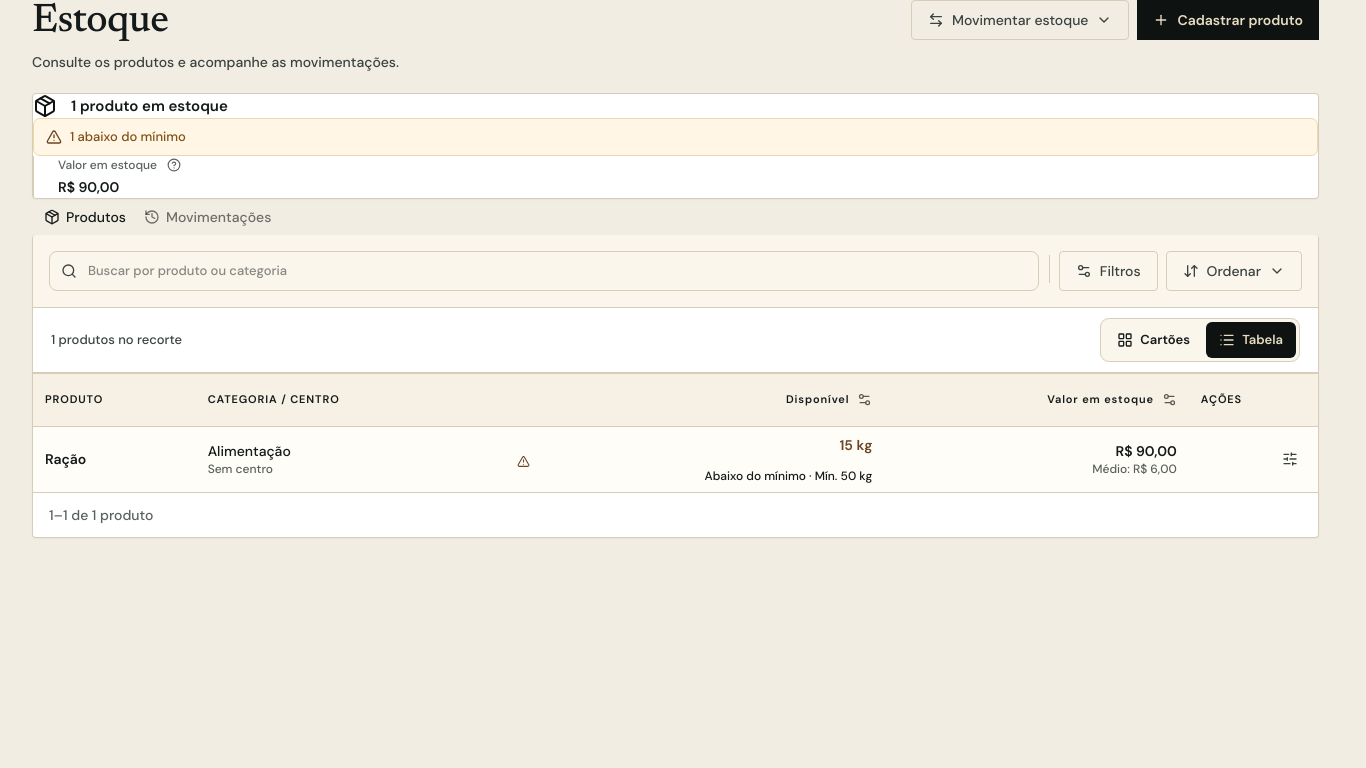
Test: EstoqueContent — saldos e custo médio › o botão do filtro 'Só abaixo do mínimo' leva o mesmo ícone da linha
Expected: the table named "Saldos de estoque" is shown, [33, 374, 1318, 492]
Step 1. Click the button "Filtros" → (1108, 270), box [1059, 250, 1158, 290]
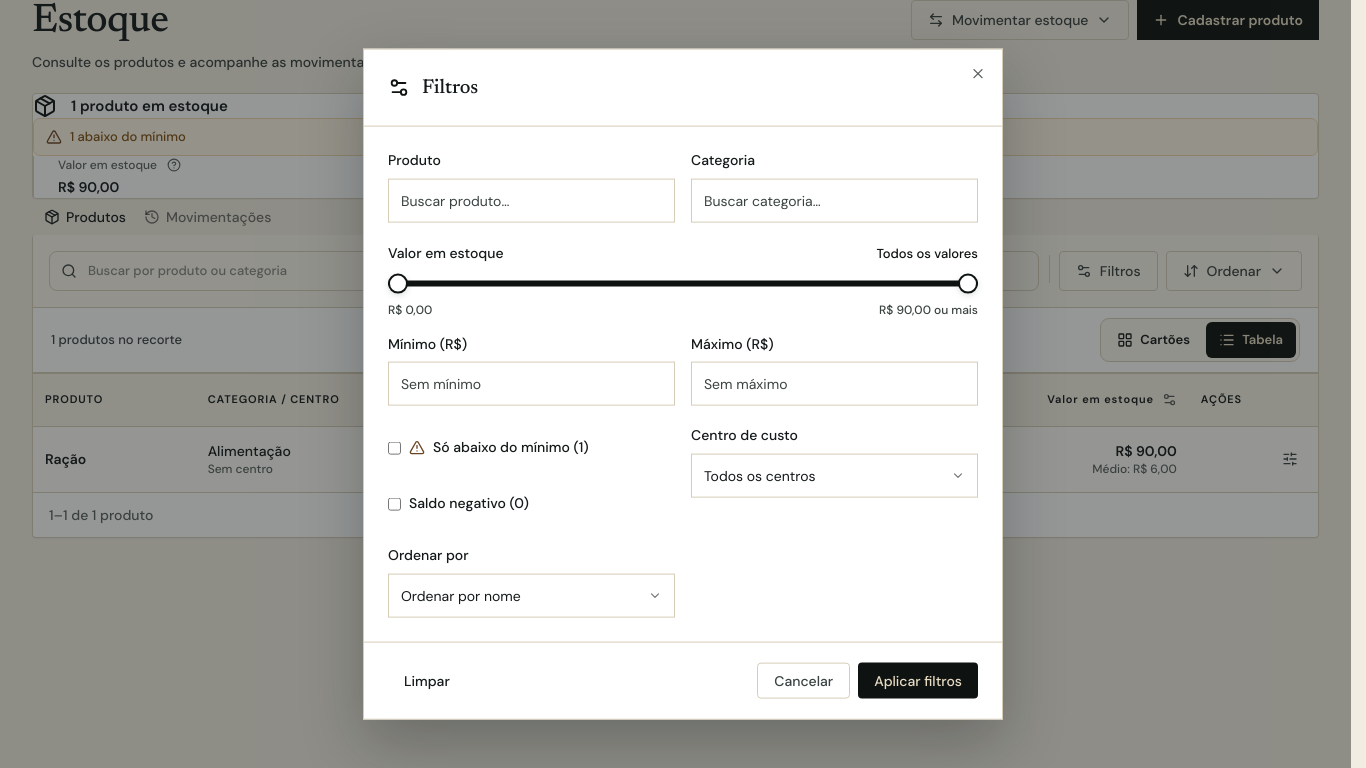
Expected: the icon with test id "icone-abaixo-minimo" next to "Só abaixo do mínimo (" is shown, [409, 440, 425, 456]
